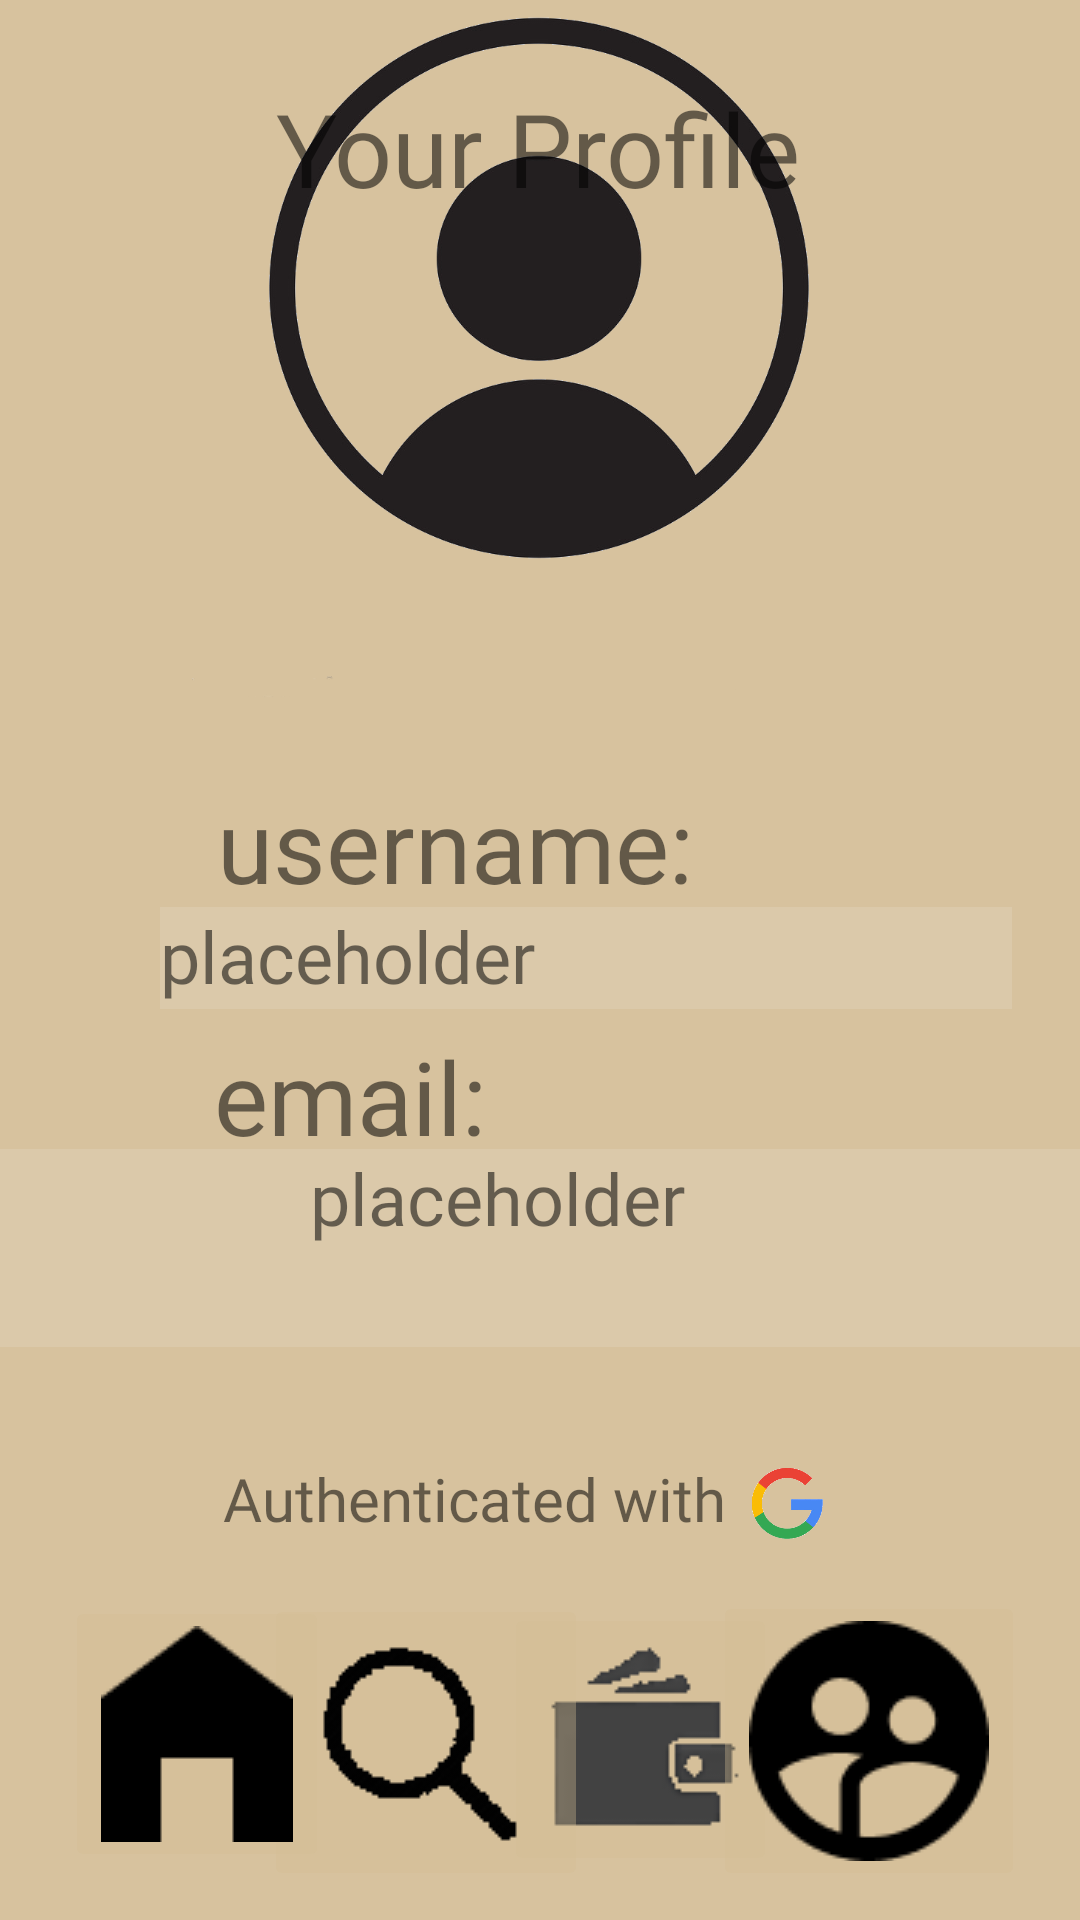

Icons on this 1080 x 1920 Android screen, each with its box as (x1, y1, x2, y2):
homepage: (101, 1626, 293, 1842)
wallet: (551, 1647, 739, 1826)
